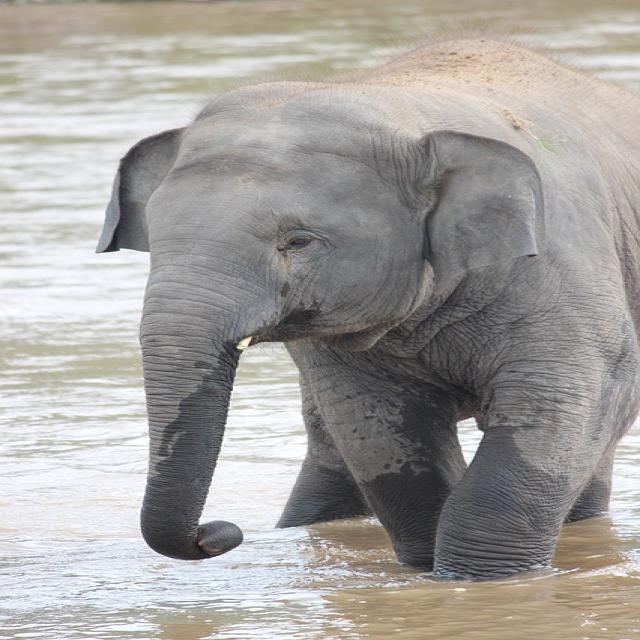FIL: (96, 85, 640, 572)
